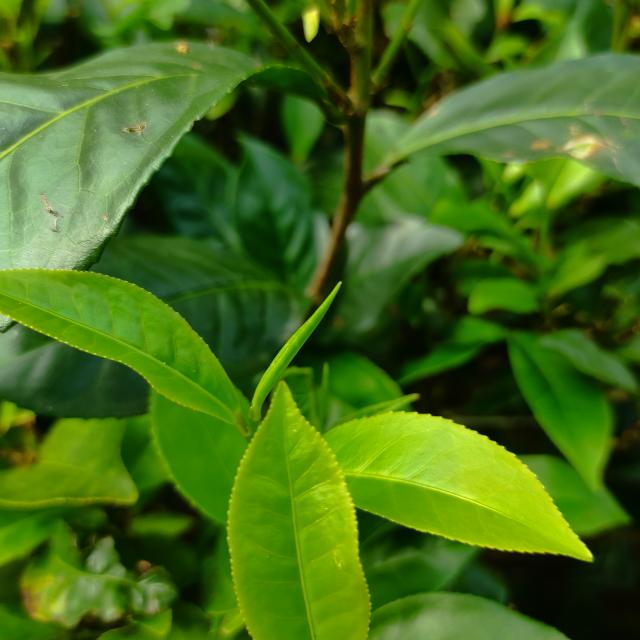unopened_leaf: (245, 271, 352, 431)
